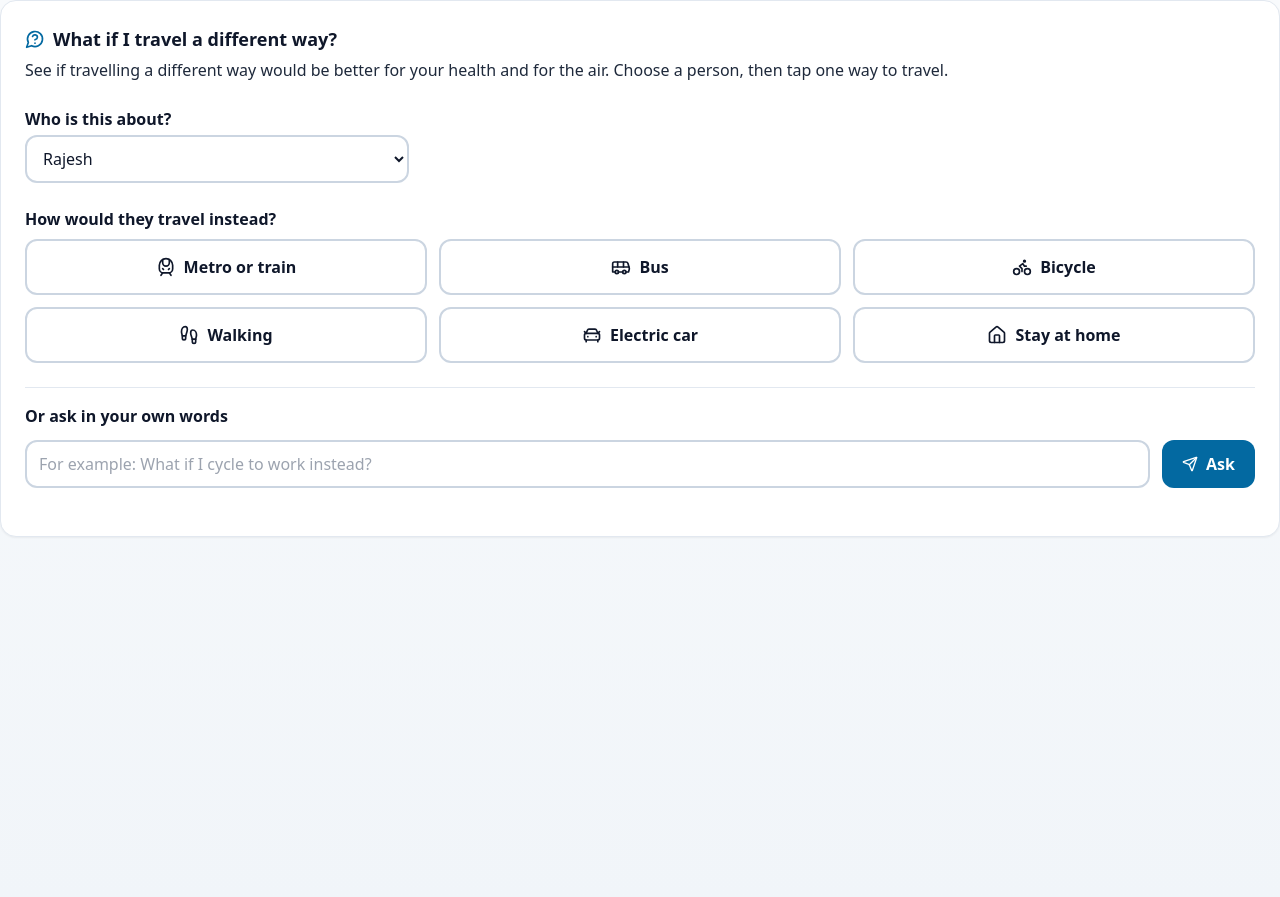
Scenario: WhatIfPanel › sends the tapped mode straight away, without typing
Click the button "Metro or train": (226, 267) [25,239,427,295]
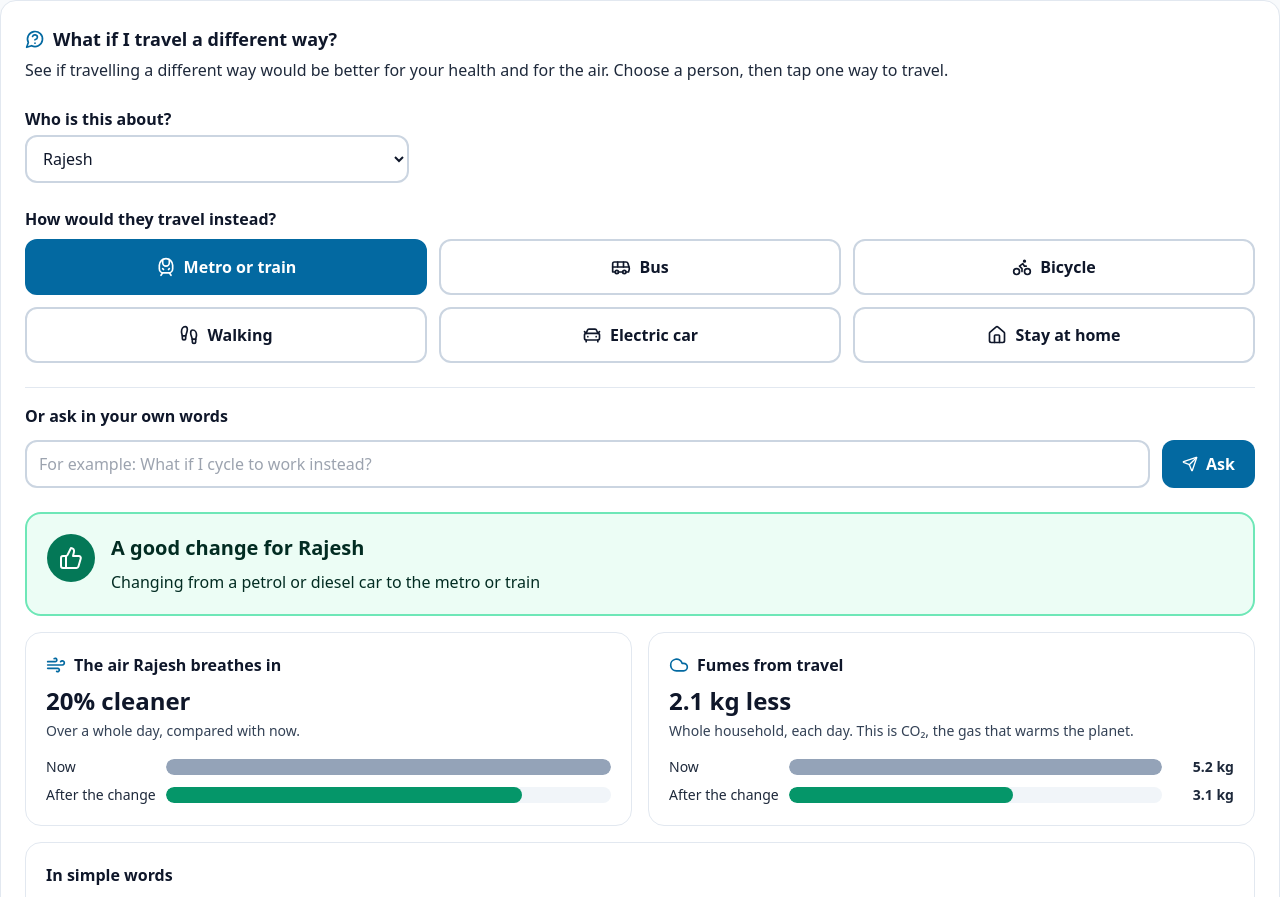
Expected: the heading "A good change for Rajesh" is shown, [111,534,364,561]
